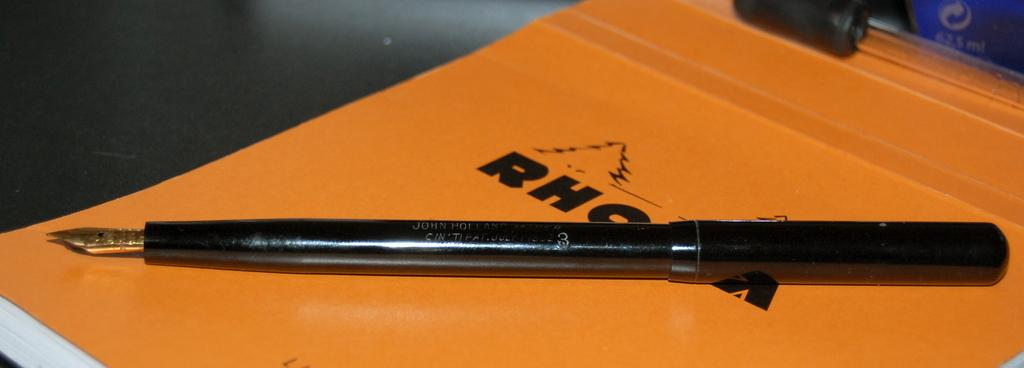pen: (42, 218, 1023, 290)
